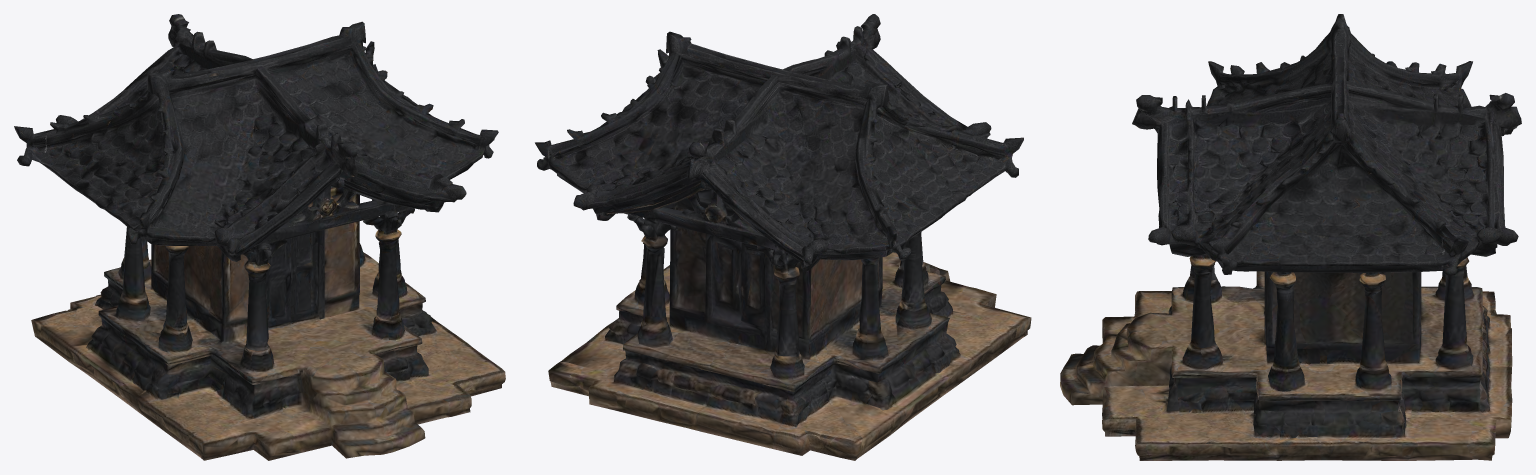
Rendered from ironcrownShrine.acf9a24b.glb.
The picture shows the model from 3 angles, left to right: view 1: azimuth 30°, elevation 25°; view 2: azimuth 150°, elevation 25°; view 3: azimuth 270°, elevation 25°; orthographic projection. The views are drawn at different scales.
Bounding box in the file's own units: 1.8 × 1.44 × 1.9.
1 material, 1 textured.
